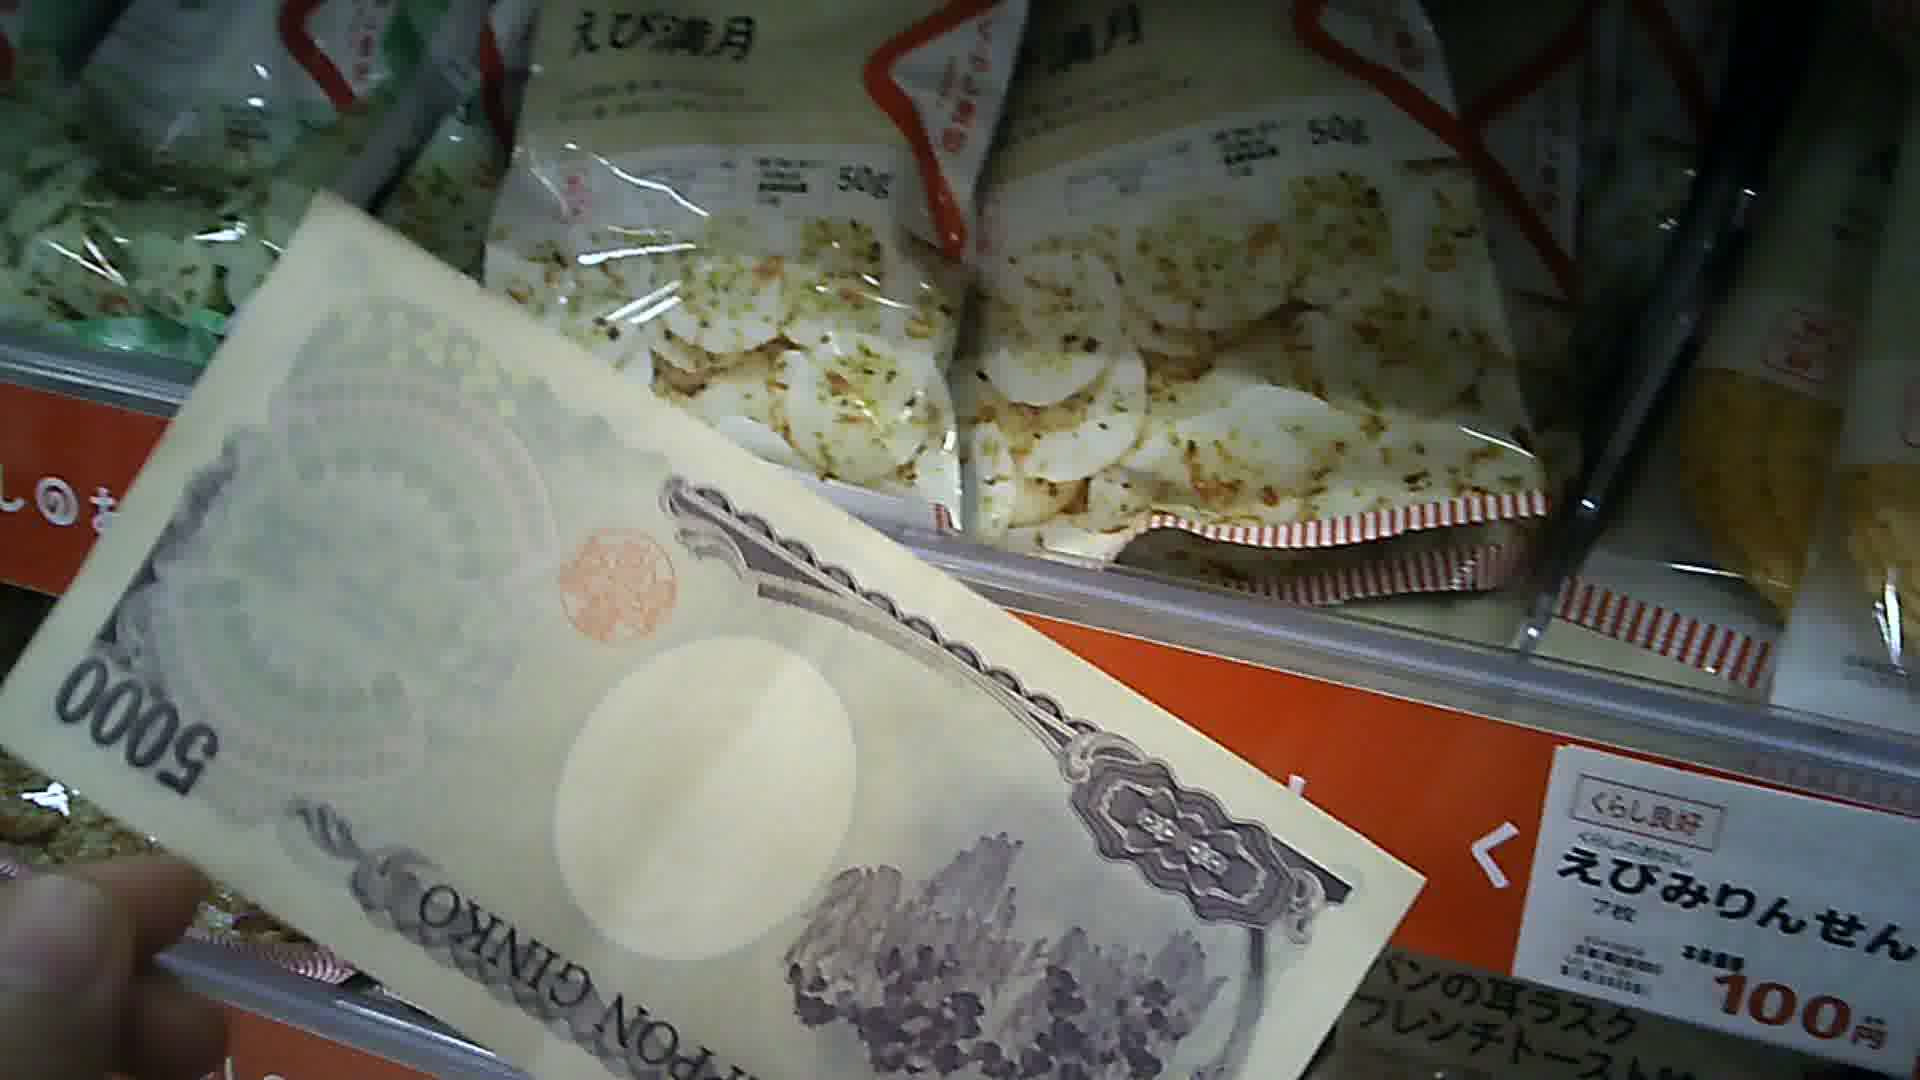5,000 Yen: (11, 185, 1422, 1069)
